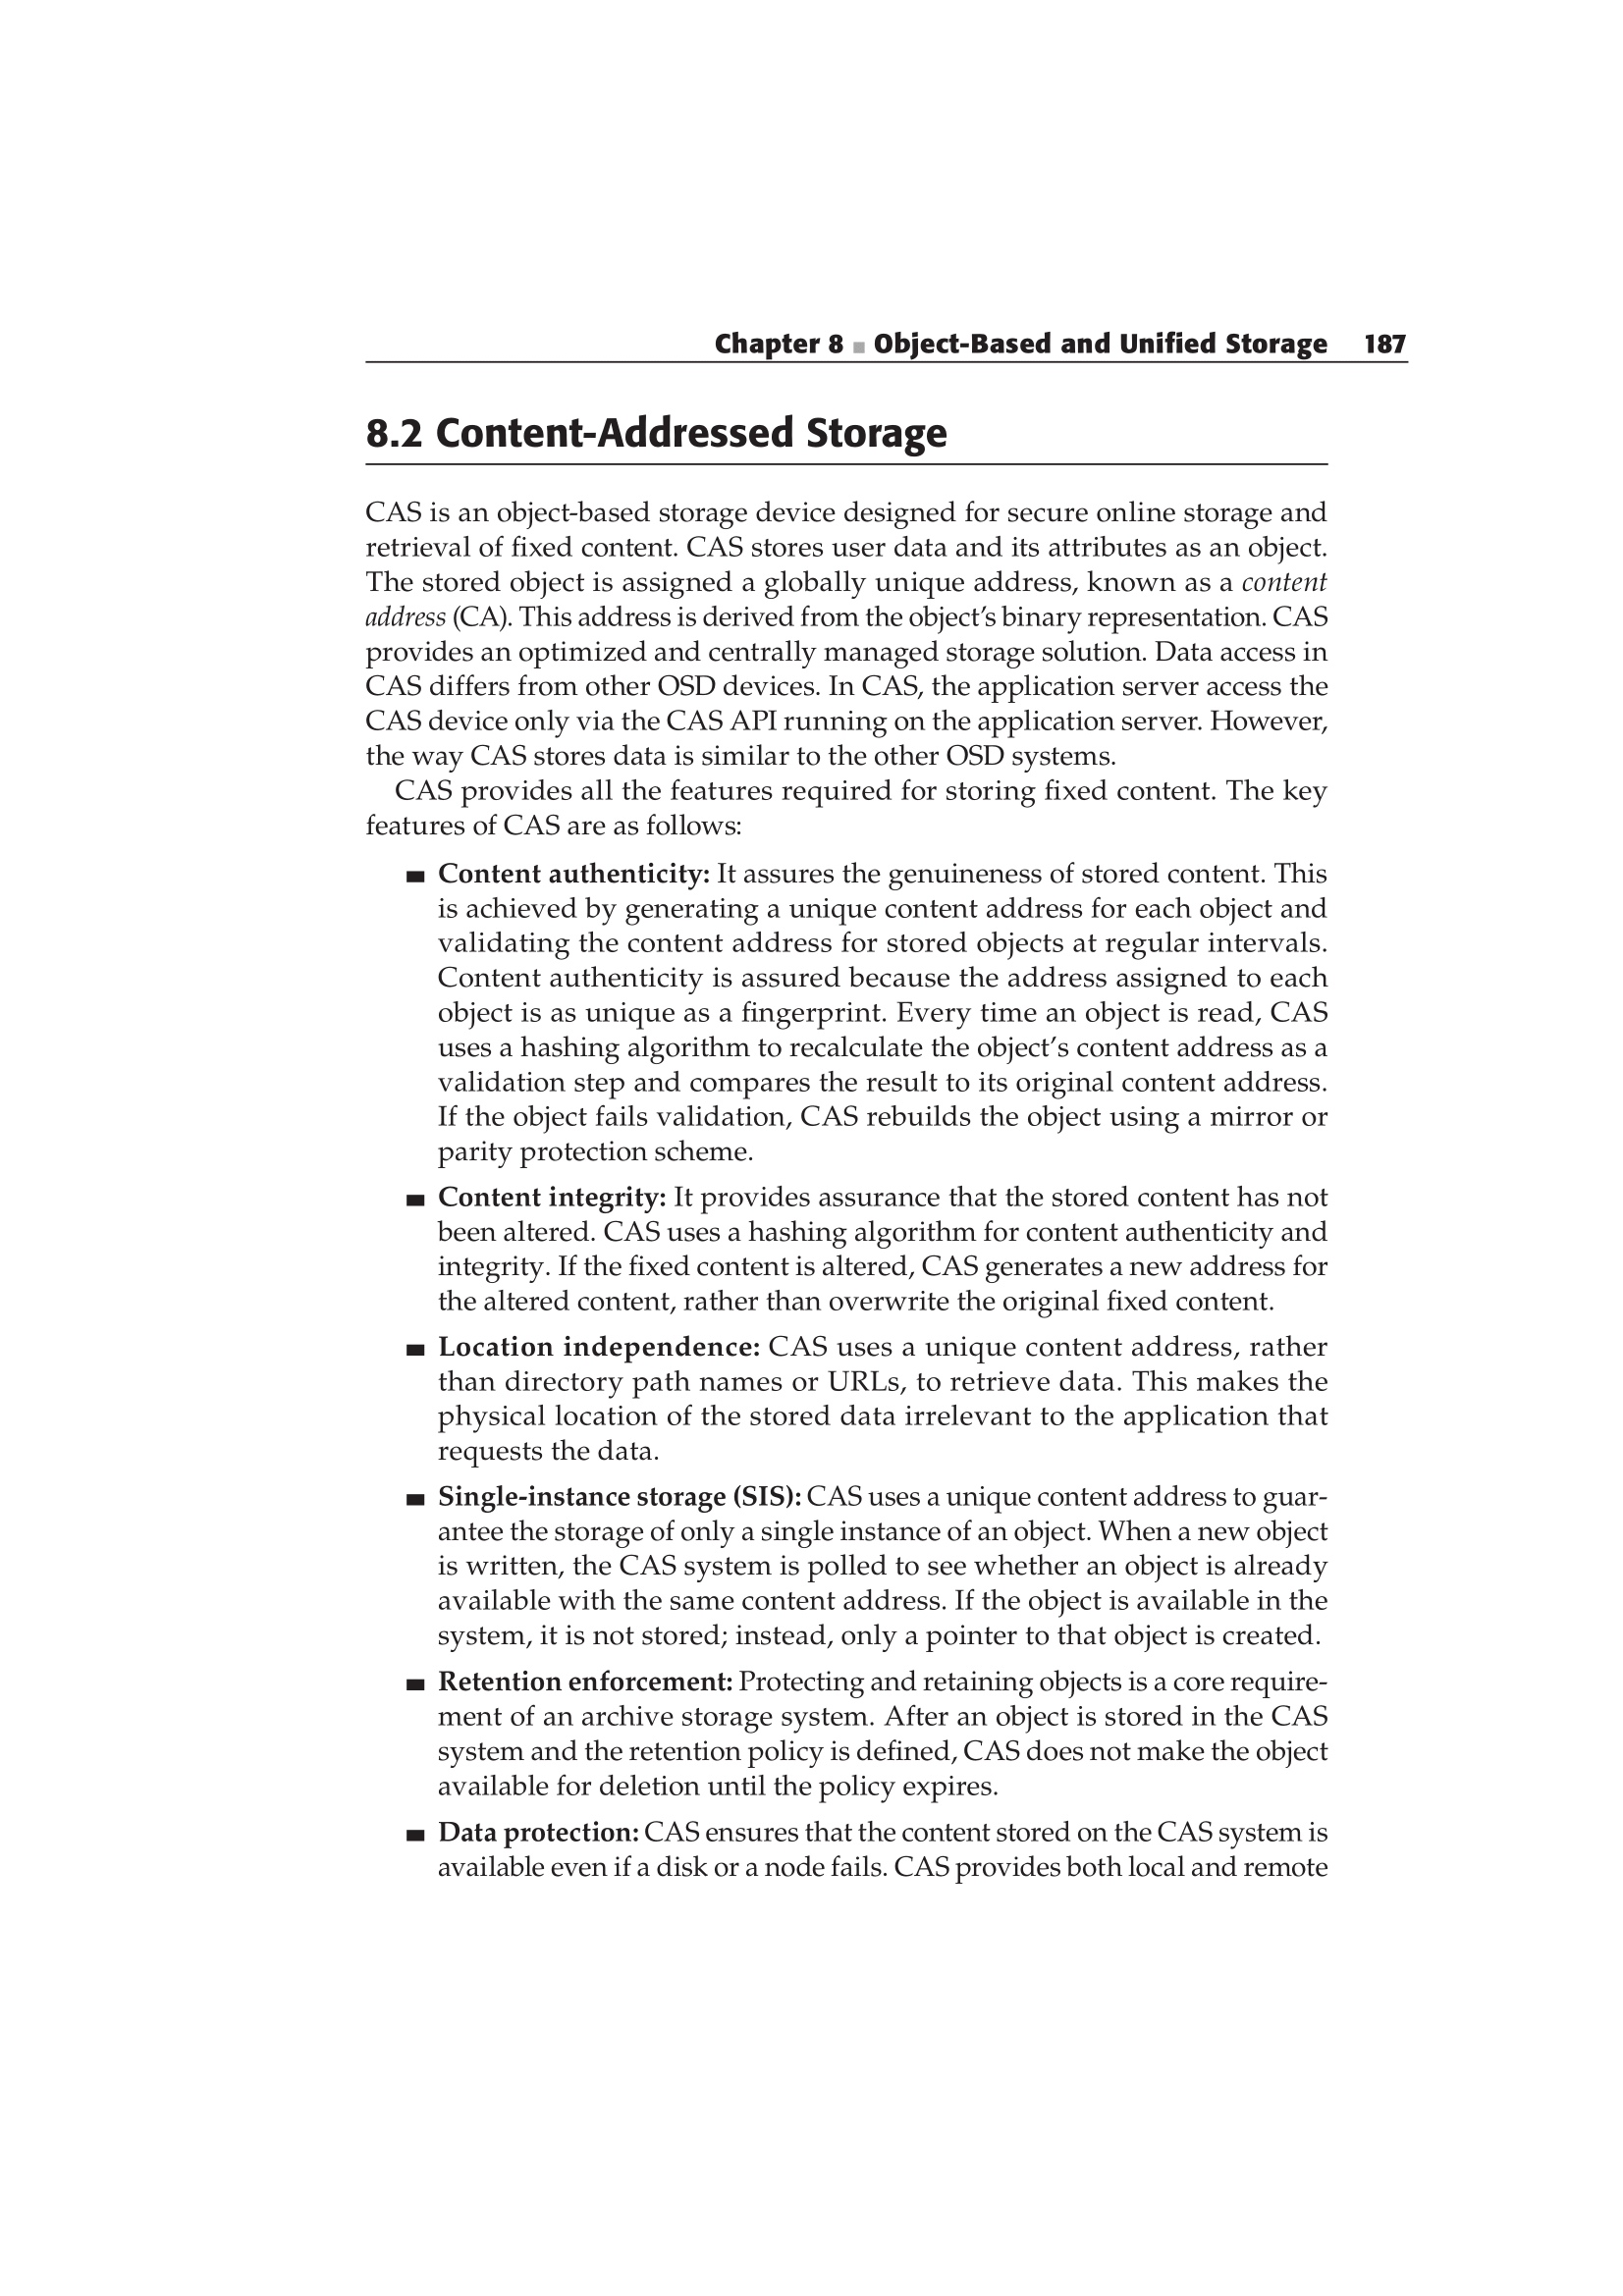Paragraph: (314, 479, 1423, 860), (353, 864, 1433, 1166), (357, 1483, 1407, 1668), (285, 1166, 1465, 1315), (302, 1675, 1412, 1813), (343, 1325, 1372, 1473), (311, 1820, 1368, 1899), (527, 314, 1468, 369), (278, 411, 1012, 476)
